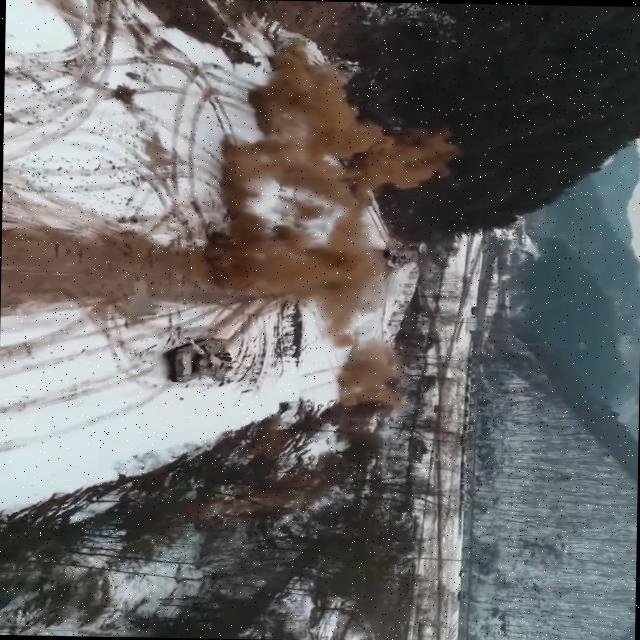korea tank: (164, 332, 236, 390)
